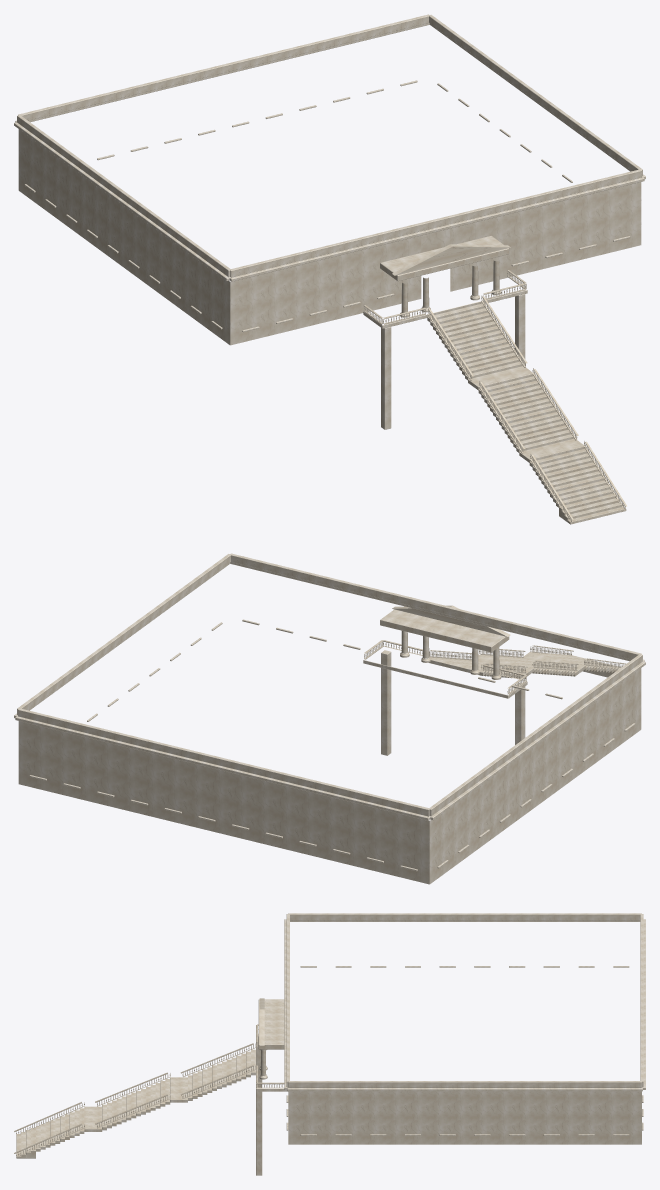
The model's file is tb_outside_p2.glb.
The picture shows the model from 3 angles, top to bottom: view 1: azimuth 30°, elevation 25°; view 2: azimuth 150°, elevation 25°; view 3: azimuth 270°, elevation 25°; orthographic projection. The views are drawn at different scales.
Parts seen in each view (by area): view 1: tb_outside_p2; view 2: tb_outside_p2; view 3: tb_outside_p2.
Part boxes in pixels (left/top/right/bottom): tb_outside_p2: left=14, top=14, right=645, bottom=524; tb_outside_p2: left=14, top=553, right=645, bottom=884; tb_outside_p2: left=14, top=913, right=645, bottom=1175.
Bounding box in the file's own units: 75.1 × 30.6 × 117.
Materials: 2 (2 with a texture image).
